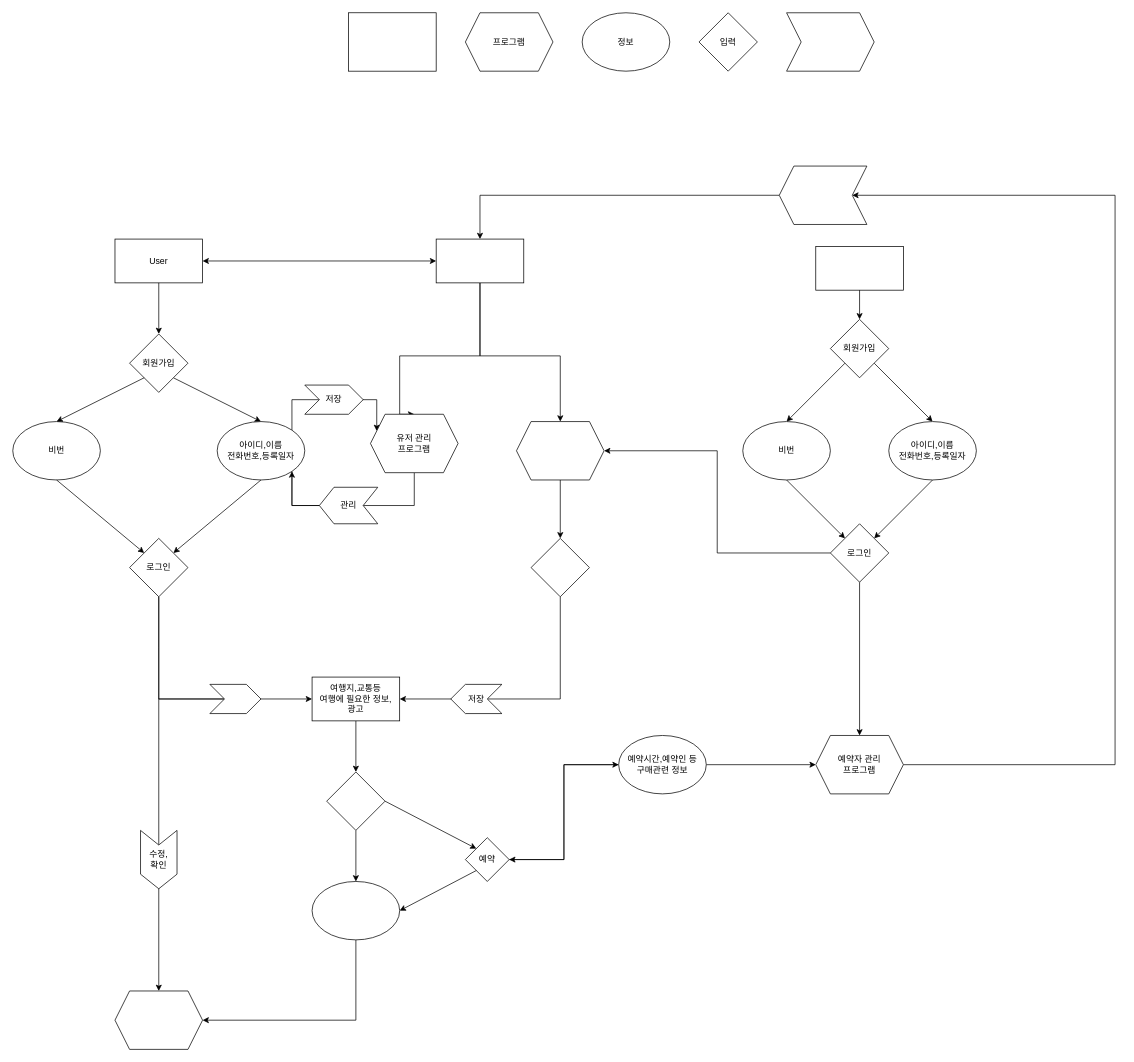
Some shapes in this 1134 by 1062 pixel diagram are drawn without their labels. Here are the shapes that lost their labels. From the top down, the centre of each, then its label:
point 392,41: 사용자
point 830,41: 수행
point 823,194: 광고 비용
point 479,260: Admin
point 859,268: 여행관련 개인이나 회사
point 560,450: 사이트 관리 프로그램
point 559,567: 정보 수집 및 등록
point 235,699: 시청
point 355,800: 여행계획
point 355,910: 계획서 (시간,장소,순서,예약여부 등)
point 158,1019: 계획서 관리 프로그램
